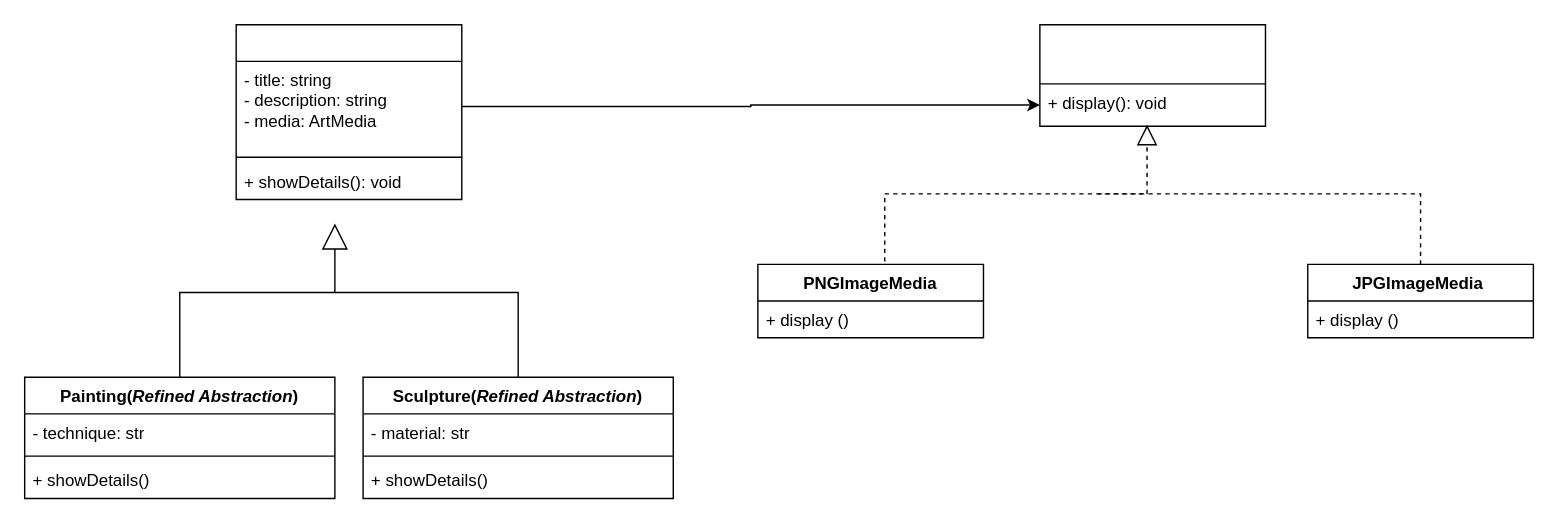
This 1558x527 diagram has some shape labels left out. The shapes that lost their labels are listed below. From the top down, each one's box as (x1, y1, x2, y2) in pixels, then its label:
(1038, 23, 1265, 126): <<interface>> ArtMedia
(235, 23, 462, 200): Art << abstract >>
